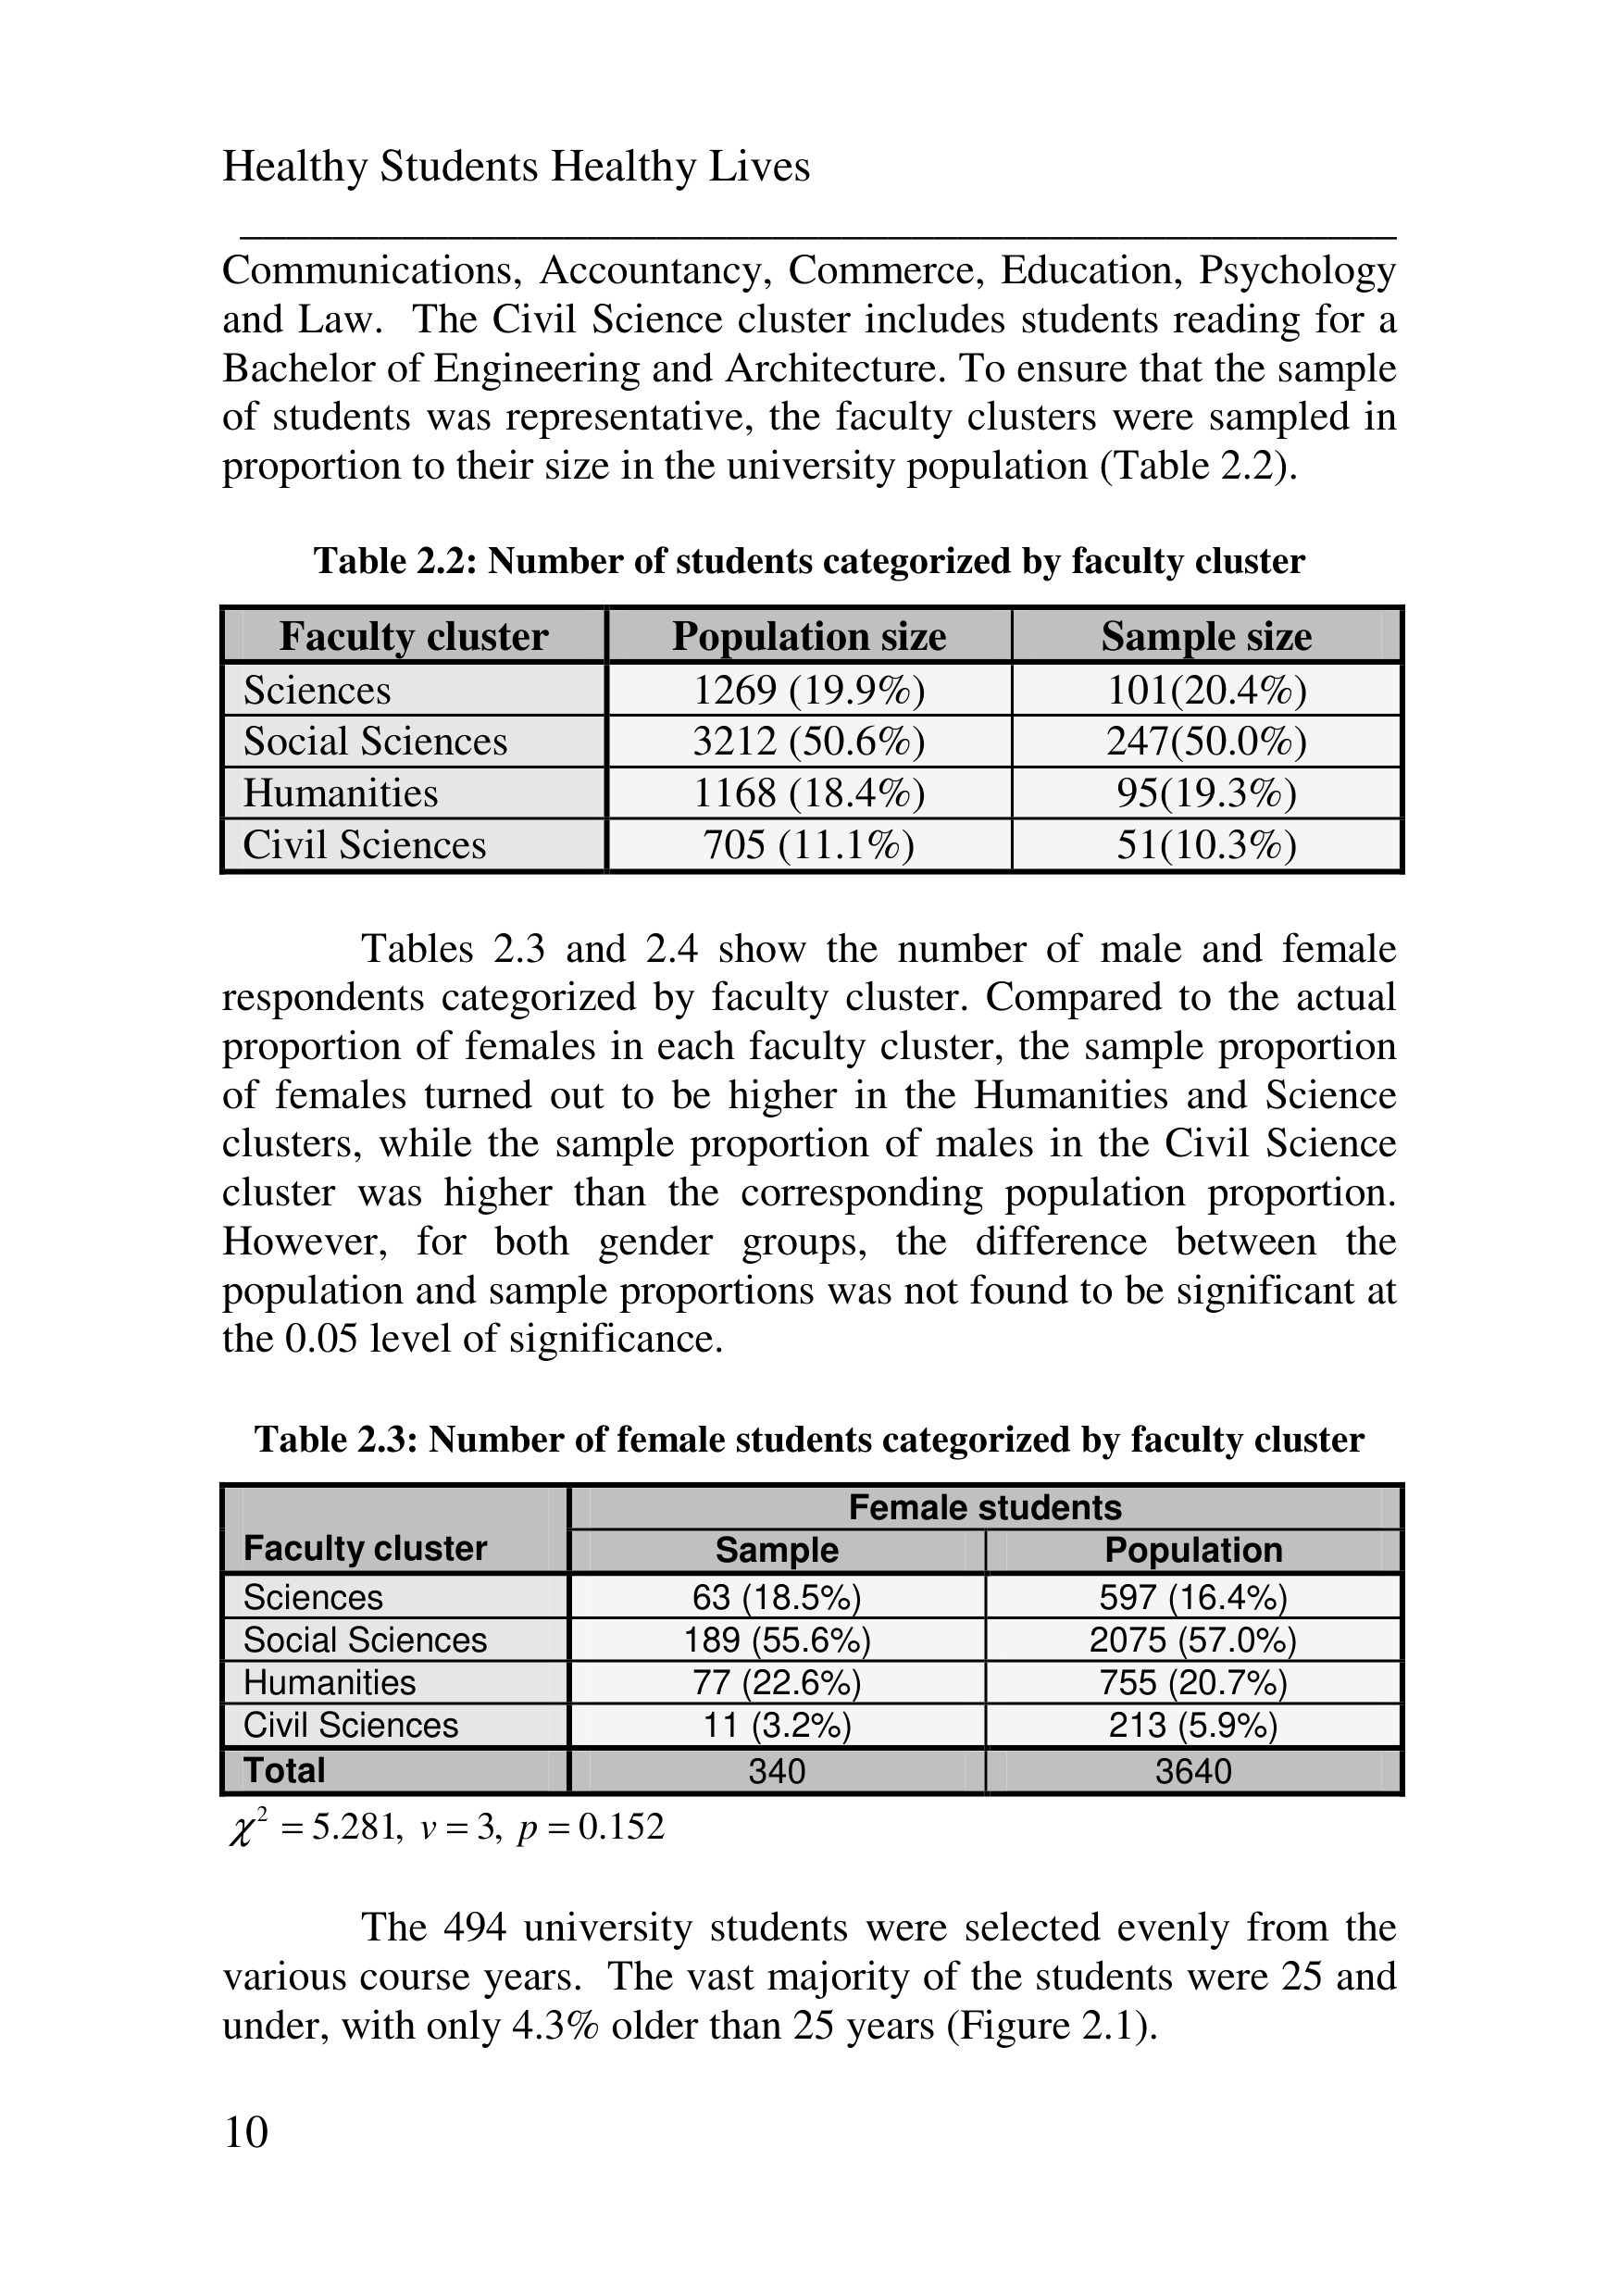table: (242, 605, 1311, 871)
